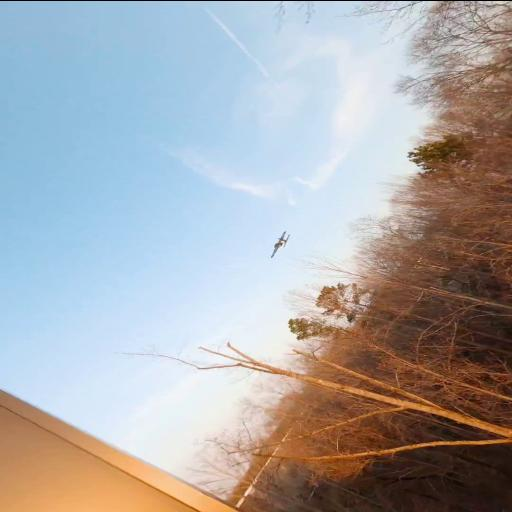uav: (268, 230, 292, 258)
